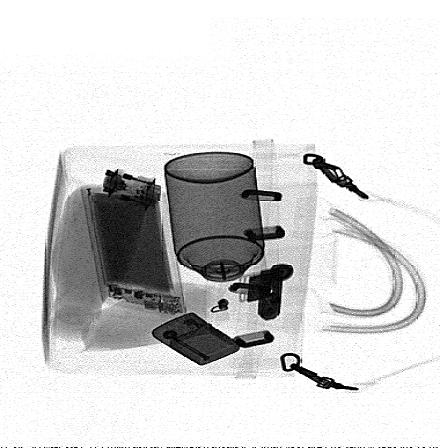Lighter: (151, 311, 241, 367)
Powerbank: (80, 186, 187, 317)
Sprayer: (164, 151, 271, 317)
